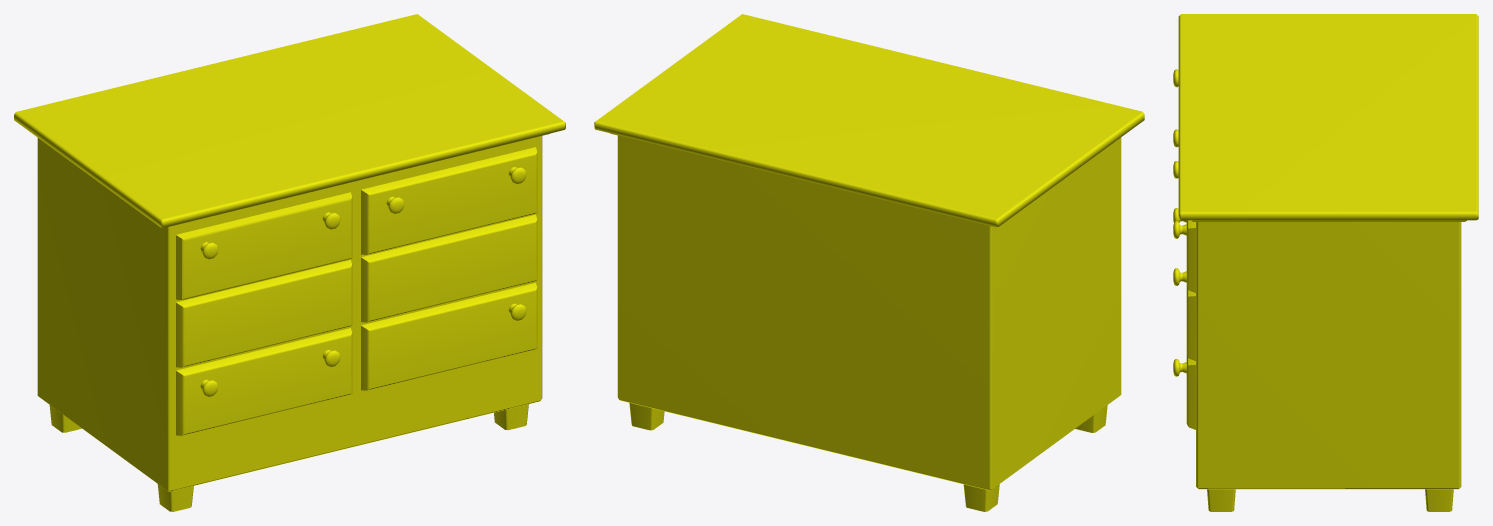
Rendered from SM_lgCabinet.fbx.
3 renders of one model, left to right at view 1: azimuth 30°, elevation 25°; view 2: azimuth 150°, elevation 25°; view 3: azimuth 270°, elevation 25°, orthographic.
Visible parts, largest first — view 1: SM_lgCabinet; view 2: SM_lgCabinet; view 3: SM_lgCabinet.
Boxes of the visible parts, left/top/right/bottom form: SM_lgCabinet: left=14, top=14, right=565, bottom=511; SM_lgCabinet: left=594, top=14, right=1144, bottom=511; SM_lgCabinet: left=1173, top=14, right=1478, bottom=511.
Bounding box in the file's own units: 127 × 92.57 × 82.31.
